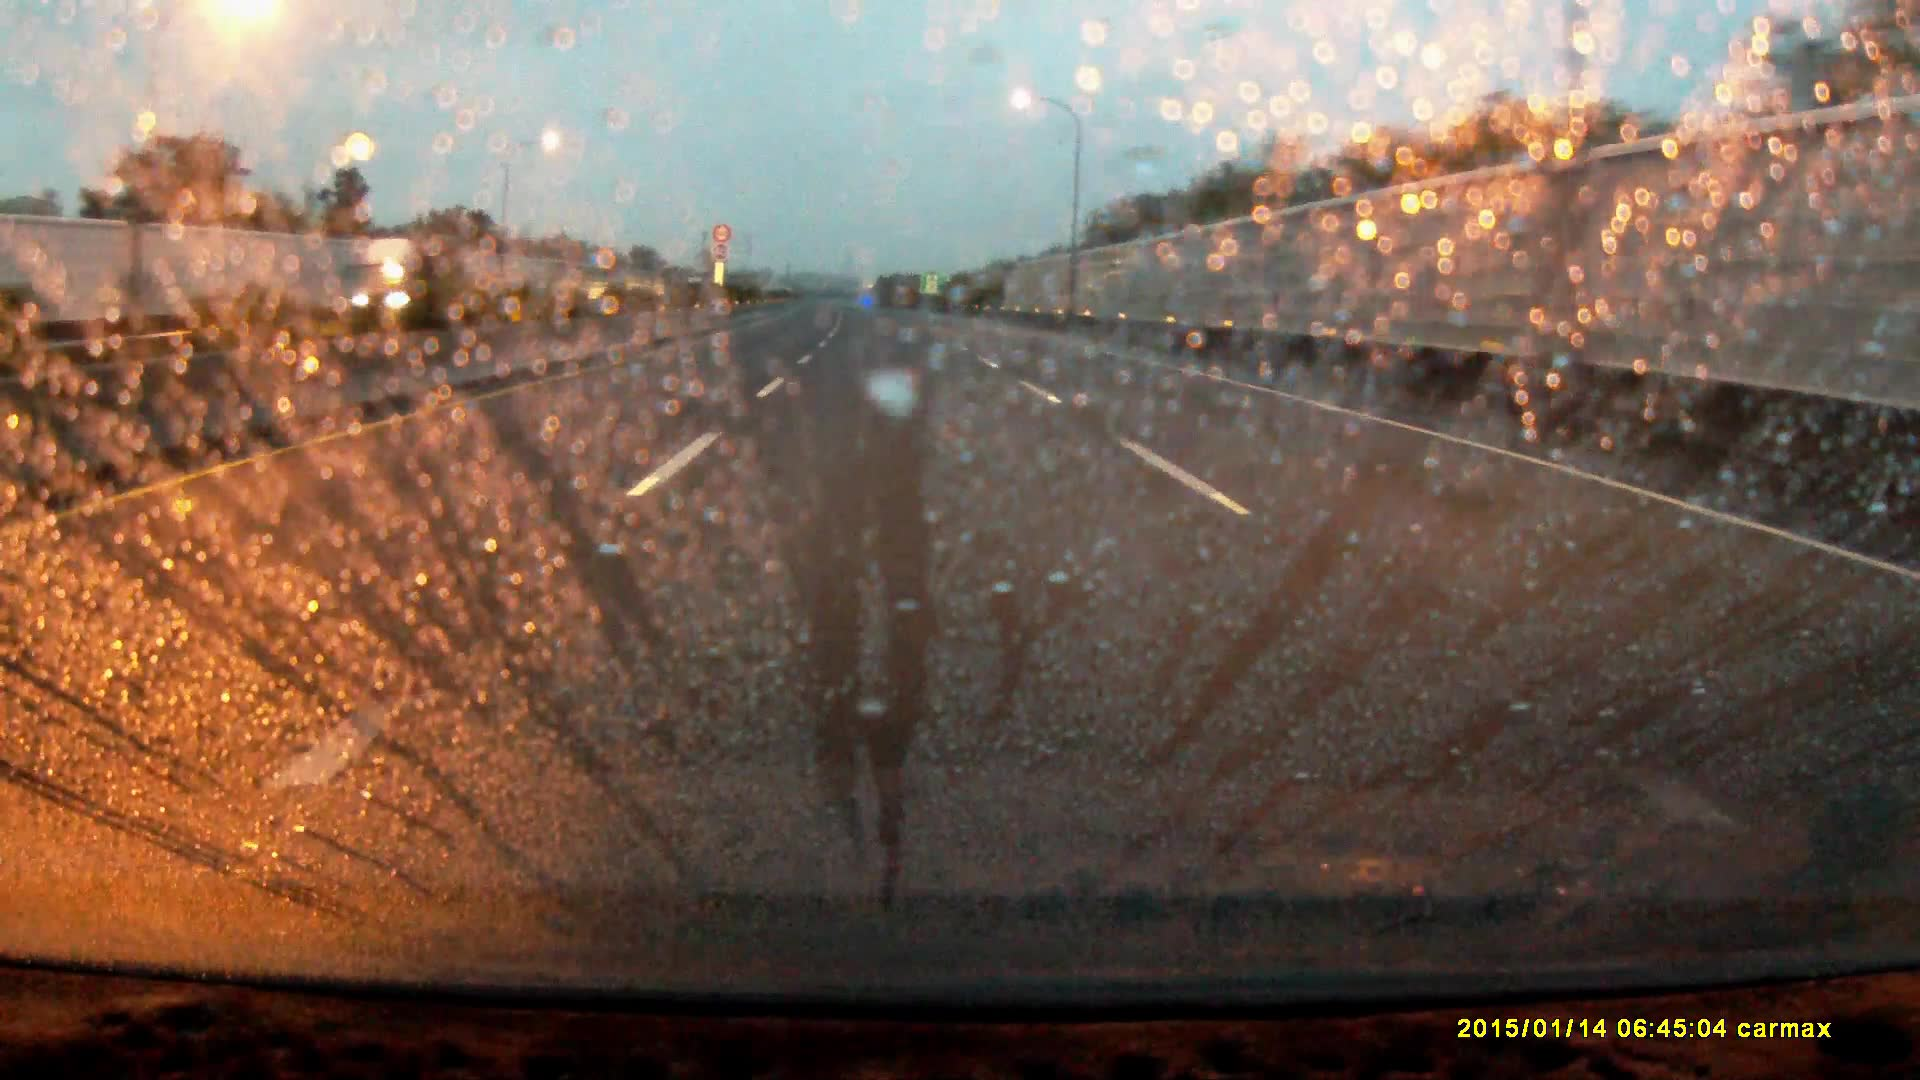vehicle: (347, 229, 468, 320)
